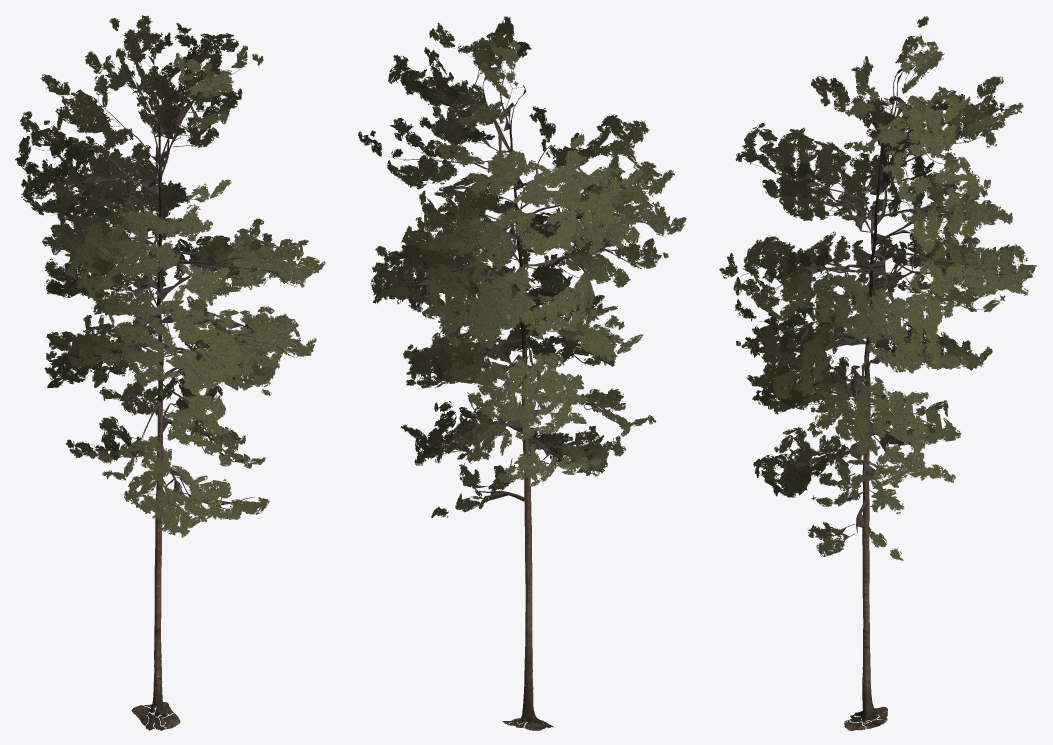
The model's file is pine.obj.
3 views of the same model, side by side, from view 1: azimuth 30°, elevation 25°; view 2: azimuth 150°, elevation 25°; view 3: azimuth 270°, elevation 25° (orthographic). The views are drawn at different scales.
Visible parts, largest first — view 1: pine; view 2: pine; view 3: pine.
Part boxes in pixels (x1,y1,x2,y2): pine: (15, 15, 325, 730); pine: (358, 16, 686, 730); pine: (719, 16, 1036, 730).
Size of the model in its own units: 0.3745 by 0.999 by 0.4127.
3 materials, 3 textured.
